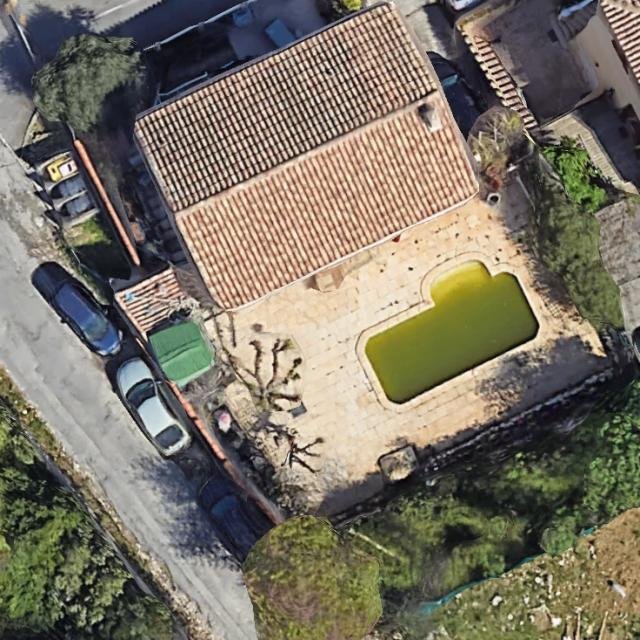maison: (123, 0, 490, 319)
